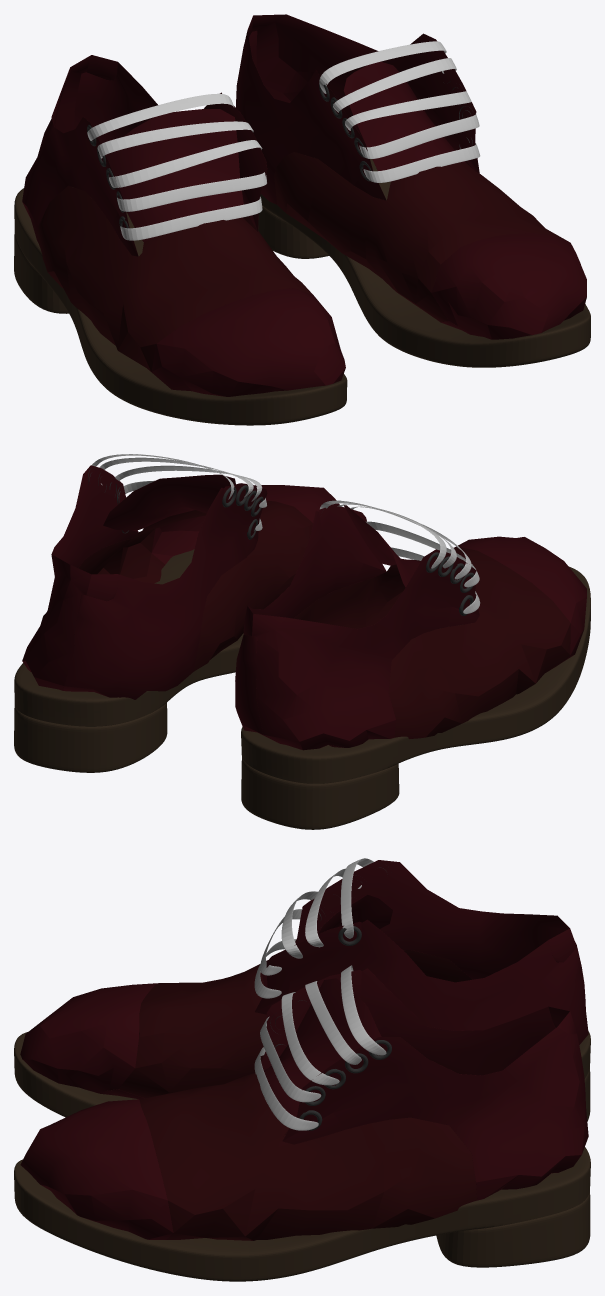
3 views of the same model, one above another, from view 1: azimuth 30°, elevation 25°; view 2: azimuth 150°, elevation 25°; view 3: azimuth 270°, elevation 25° (orthographic). The views are drawn at different scales.
Visible parts, largest first — view 1: ZAPATO1_3.001, ZAPATO1_3, Plane.011, Plane, Plane.009, Plane.006, Plane.010, Plane.008, Plane.007, Plane.002, Plane.003, Plane.004 (+2 smaller); view 2: ZAPATO1_3.001, ZAPATO1_3, Plane.011, Plane, Plane.009, Plane.001, Plane.003, Plane.007; view 3: ZAPATO1_3, ZAPATO1_3.001, Plane, Plane.011, Plane.001, Plane.004, Plane.003, Plane.005, Plane.002, Plane.007, Plane.008, Plane.010.
Part boxes in pixels (x1=…): ZAPATO1_3.001: x1=22, y1=55, x2=345, y2=396; ZAPATO1_3: x1=236, y1=14, x2=586, y2=339; Plane.011: x1=14, y1=188, x2=347, y2=425; Plane: x1=258, y1=159, x2=590, y2=367; Plane.009: x1=117, y1=172, x2=266, y2=211; Plane.006: x1=120, y1=196, x2=262, y2=240; Plane.010: x1=109, y1=140, x2=262, y2=187; Plane.008: x1=97, y1=121, x2=253, y2=158; Plane.007: x1=87, y1=93, x2=234, y2=140; Plane.002: x1=359, y1=114, x2=479, y2=158; Plane.003: x1=333, y1=58, x2=456, y2=112; Plane.004: x1=319, y1=41, x2=446, y2=93; ZAPATO1_3.001: x1=235, y1=505, x2=586, y2=750; ZAPATO1_3: x1=22, y1=465, x2=339, y2=699; Plane.011: x1=241, y1=566, x2=590, y2=829; Plane: x1=14, y1=549, x2=243, y2=772; Plane.009: x1=366, y1=521, x2=479, y2=587; Plane.001: x1=115, y1=465, x2=262, y2=501; Plane.003: x1=99, y1=457, x2=253, y2=497; Plane.007: x1=320, y1=500, x2=446, y2=568; ZAPATO1_3: x1=20, y1=968, x2=588, y2=1240; ZAPATO1_3.001: x1=20, y1=860, x2=588, y2=1099; Plane: x1=14, y1=1147, x2=590, y2=1281; Plane.011: x1=14, y1=1031, x2=590, y2=1121; Plane.001: x1=281, y1=992, x2=339, y2=1085; Plane.004: x1=340, y1=965, x2=386, y2=1055; Plane.003: x1=305, y1=981, x2=361, y2=1064; Plane.005: x1=254, y1=1047, x2=318, y2=1130; Plane.002: x1=260, y1=1016, x2=321, y2=1102; Plane.007: x1=340, y1=858, x2=373, y2=938; Plane.008: x1=305, y1=868, x2=361, y2=947; Plane.010: x1=281, y1=891, x2=317, y2=958.
Size of the model in its own units: 412 by 209 by 447.
